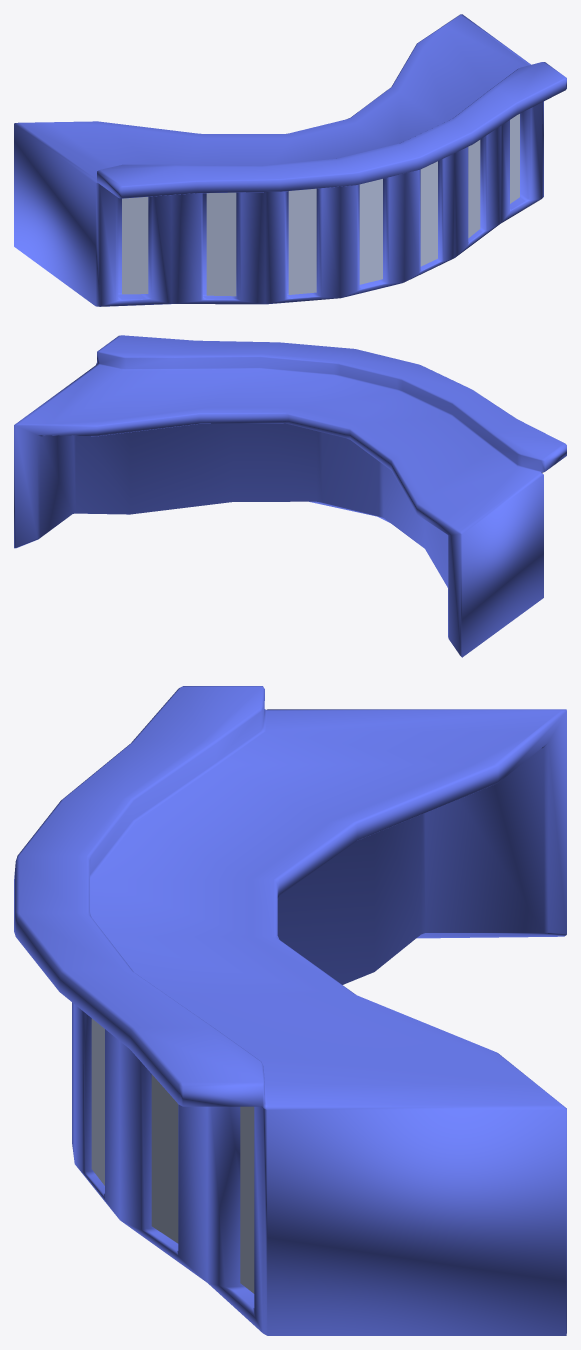
The model's file is Desk_Front.fbx.
3 renders of one model, top to bottom at view 1: azimuth 30°, elevation 25°; view 2: azimuth 150°, elevation 25°; view 3: azimuth 270°, elevation 25°, orthographic. The views are drawn at different scales.
Parts seen in each view (by area): view 1: Desk, Desk Panels; view 2: Desk; view 3: Desk, Desk Panels.
Boxes of the visible parts, x1,y1,x2,y2 form: Desk: (14, 14, 566, 306); Desk Panels: (122, 114, 519, 296); Desk: (14, 335, 566, 657); Desk: (14, 686, 566, 1335); Desk Panels: (91, 1018, 254, 1293).
Size of the model in its own units: 187 by 54.91 by 109.
